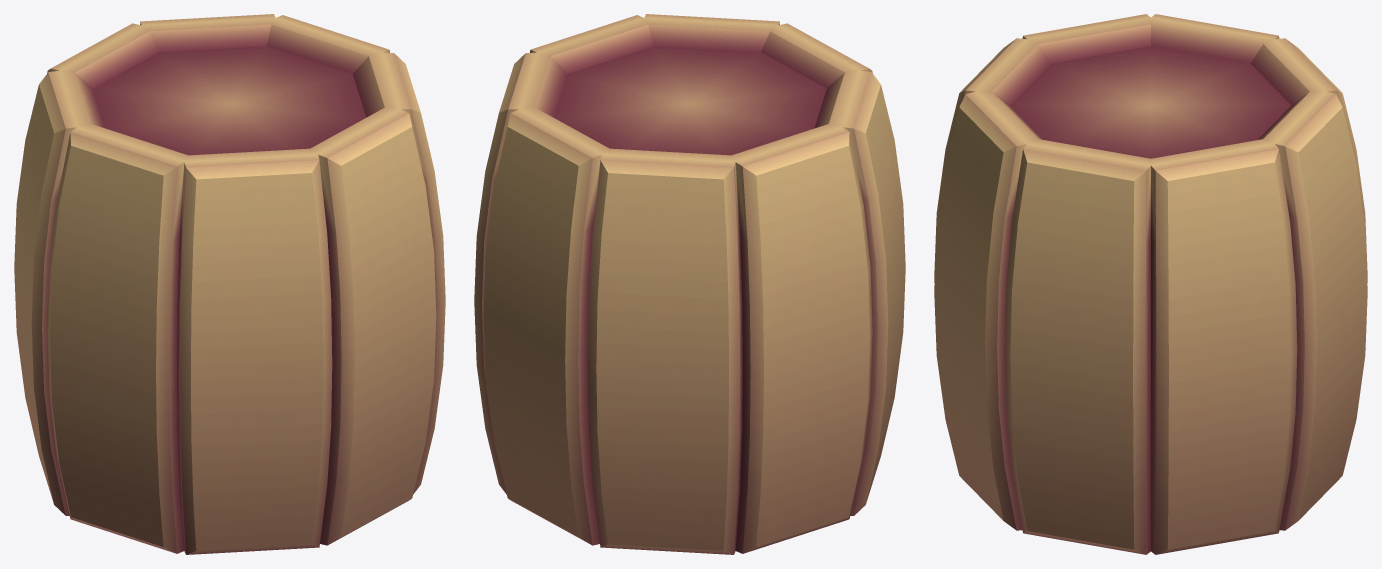
Rendered from Barrel_01.fbx.
The picture shows the model from 3 angles, left to right: view 1: azimuth 30°, elevation 25°; view 2: azimuth 150°, elevation 25°; view 3: azimuth 270°, elevation 25°; orthographic projection.
Parts seen in each view (by area): view 1: Barrel_01; view 2: Barrel_01; view 3: Barrel_01.
Part boxes in pixels (x1=…): Barrel_01: x1=14, y1=14, x2=445, y2=554; Barrel_01: x1=474, y1=14, x2=905, y2=554; Barrel_01: x1=934, y1=14, x2=1367, y2=554.
Size of the model in its own units: 2.57 by 2.52 by 2.57.
1 material, 1 textured.
